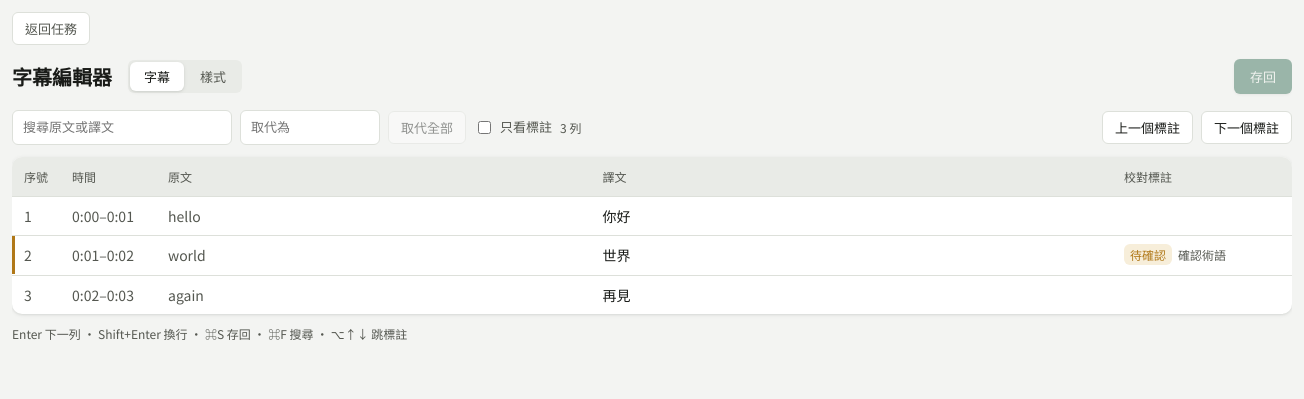
Scenario: SubtitleEditorView › next-flag button activates the flagged row
Expected: the text "你好" is shown, left=602, top=206, right=630, bottom=226
Click the button "下一個標註" at (1246, 127), box left=1201, top=111, right=1292, bottom=144
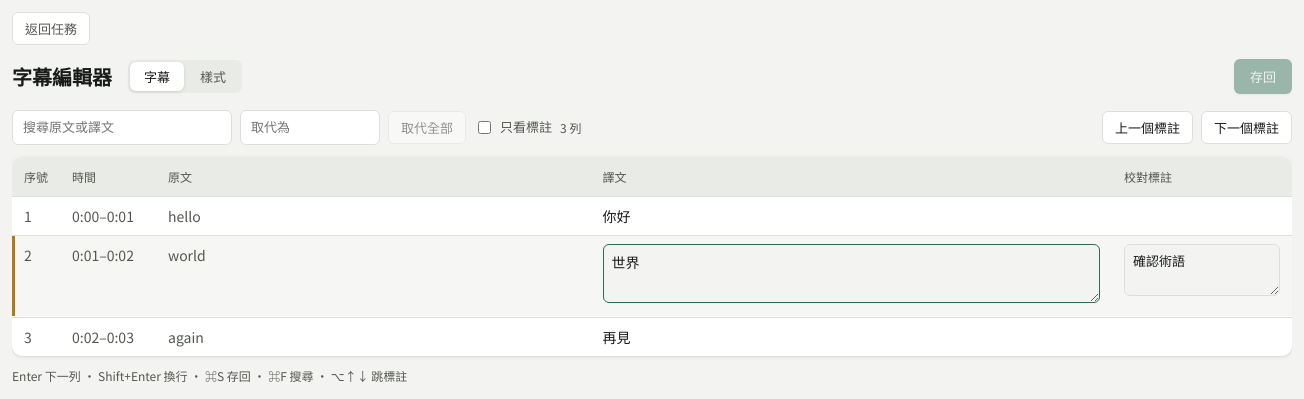
Expected: the text box named "譯文" holds "世界", left=602, top=244, right=1100, bottom=303
